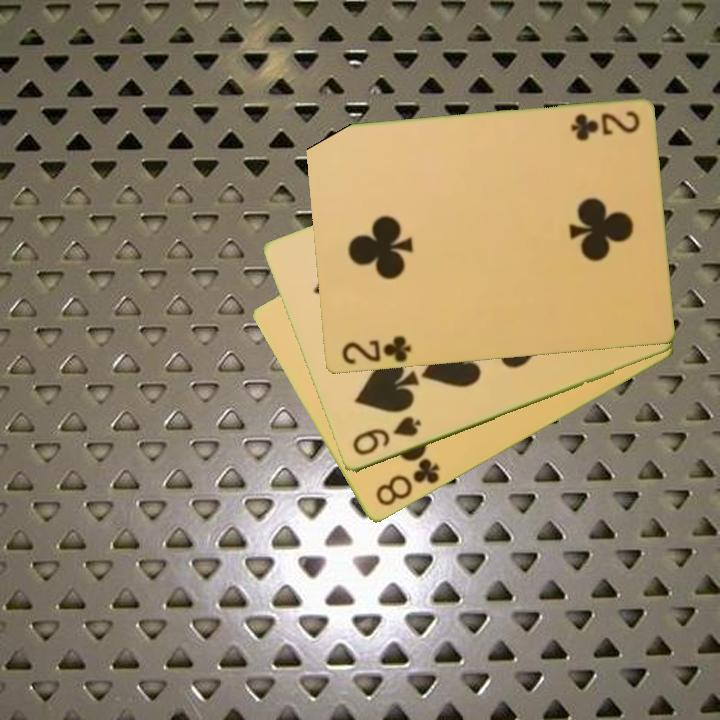2c: (338, 333, 414, 368), (567, 108, 642, 142)
8c: (372, 455, 443, 510)
9s: (348, 413, 424, 459)
